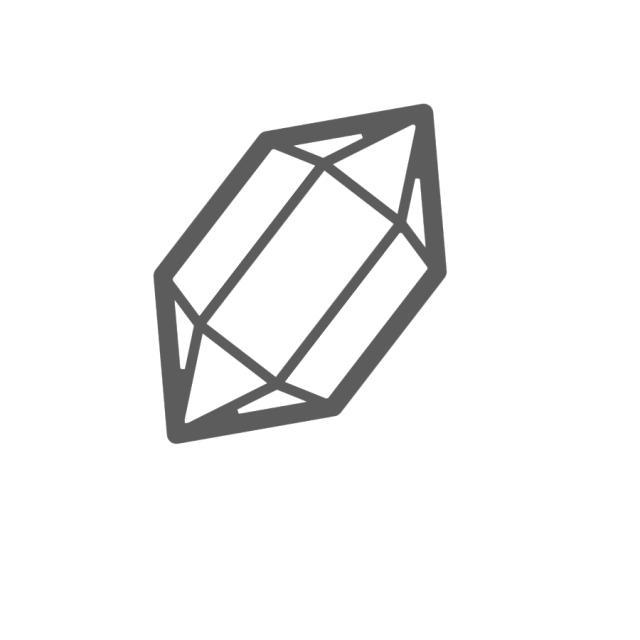crystal: (147, 99, 457, 455)
